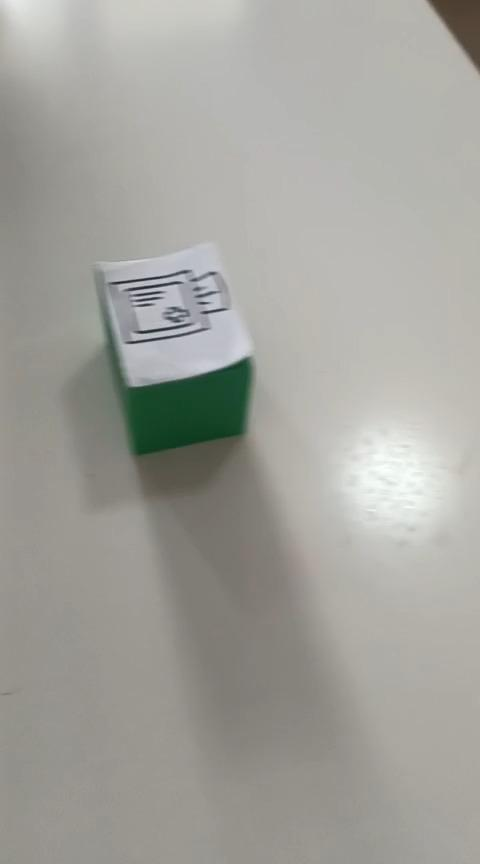Gauze: (90, 239, 256, 456)
